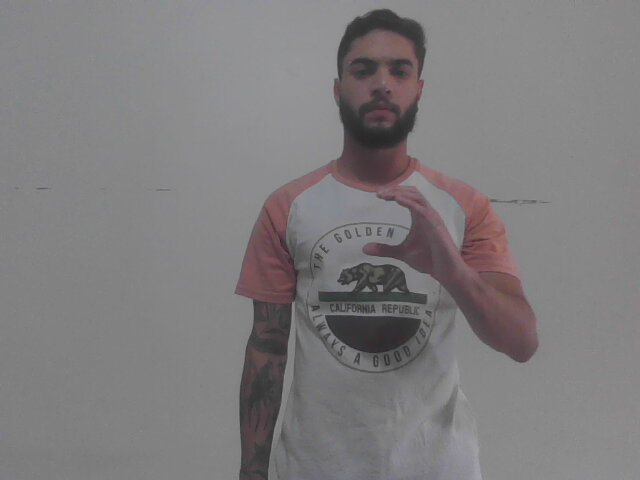c: (362, 181, 468, 288)
